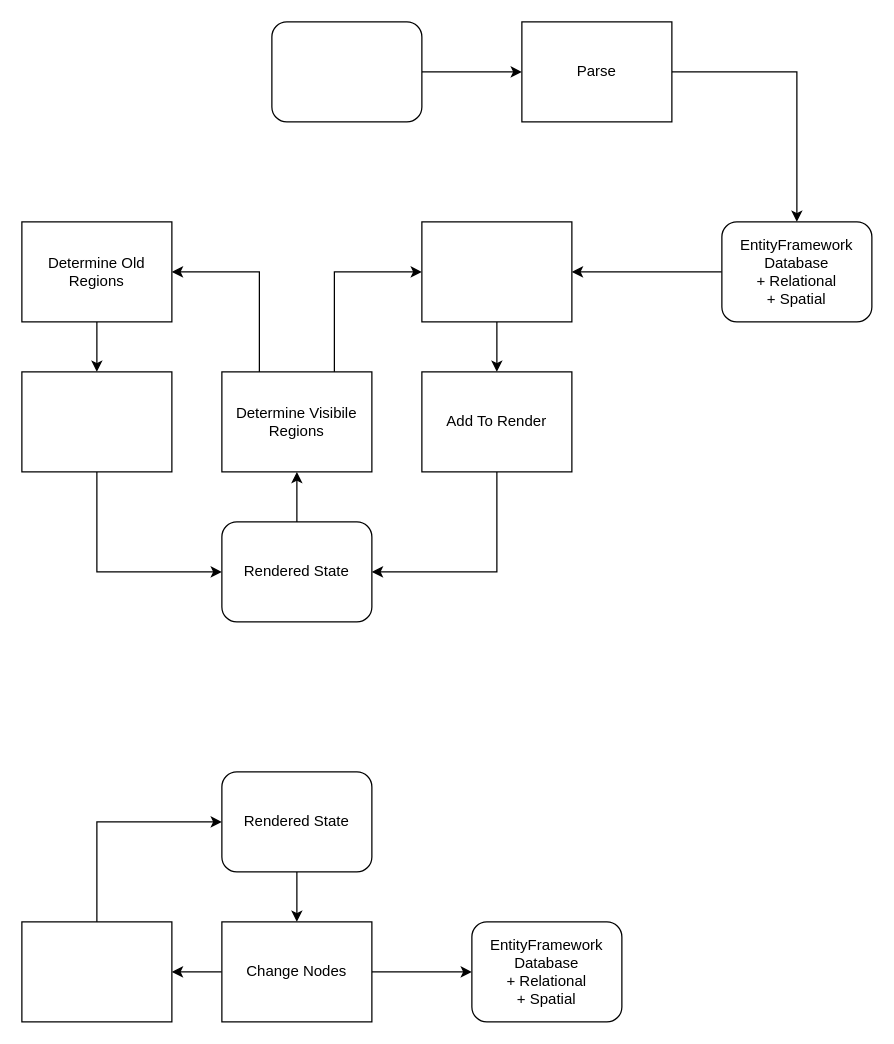
Some shapes in this 894 by 1044 pixel diagram are drawn without their labels. Each missing label, with the centre of its shape:
"Cull Non-visible Entities" goes at (x=96, y=421).
"Is Visible" goes at (x=96, y=971).
"navGrid.sqf" goes at (x=346, y=71).
"Query New Regions" goes at (x=496, y=271).
